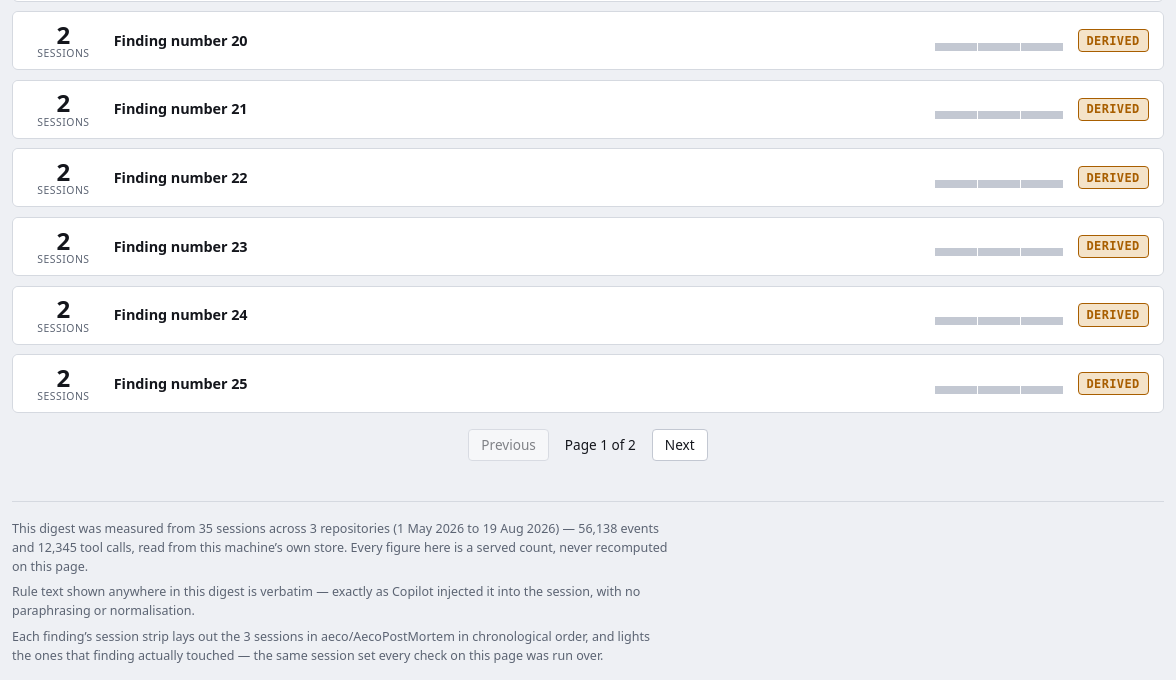
Test case: DigestPage › paginates the ranked findings list once it exceeds one page
(page scrolled)
Expected: the text "Finding number 25" is shown, [114,374,248,393]
Expected: the text "Finding number 26" is not shown
Click the button with aria-label "Next page": click(680, 445) [652,429,708,461]
(page scrolled)
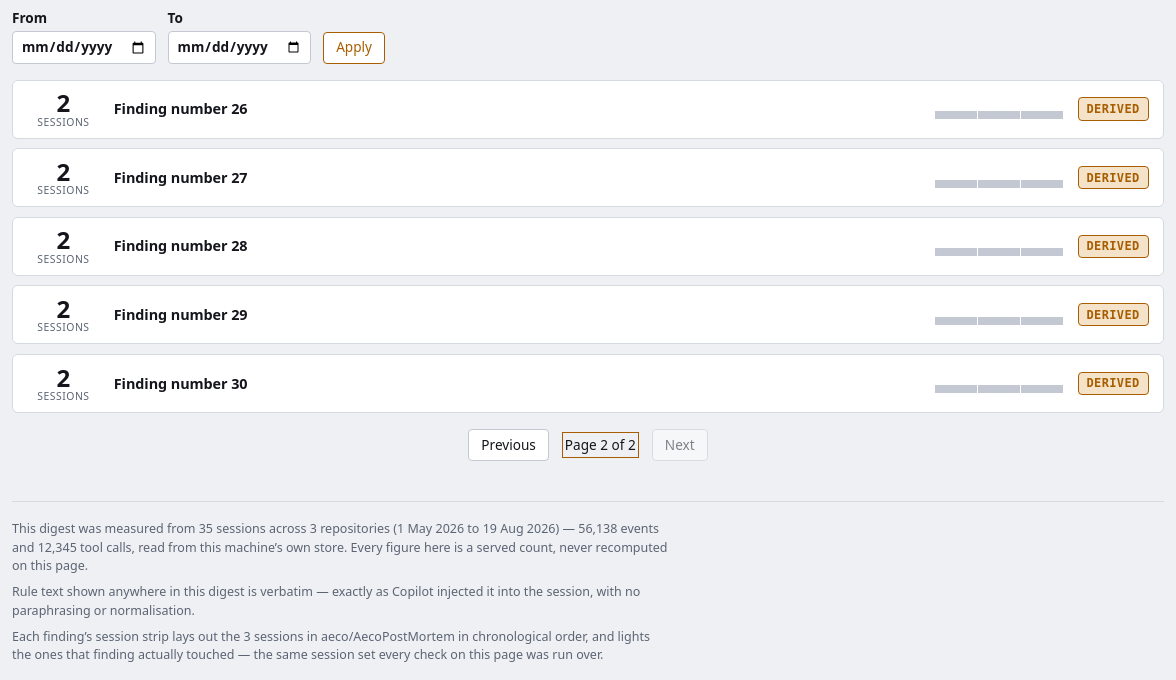
Now the text "Finding number 26" is shown, box [114,99,248,118]
